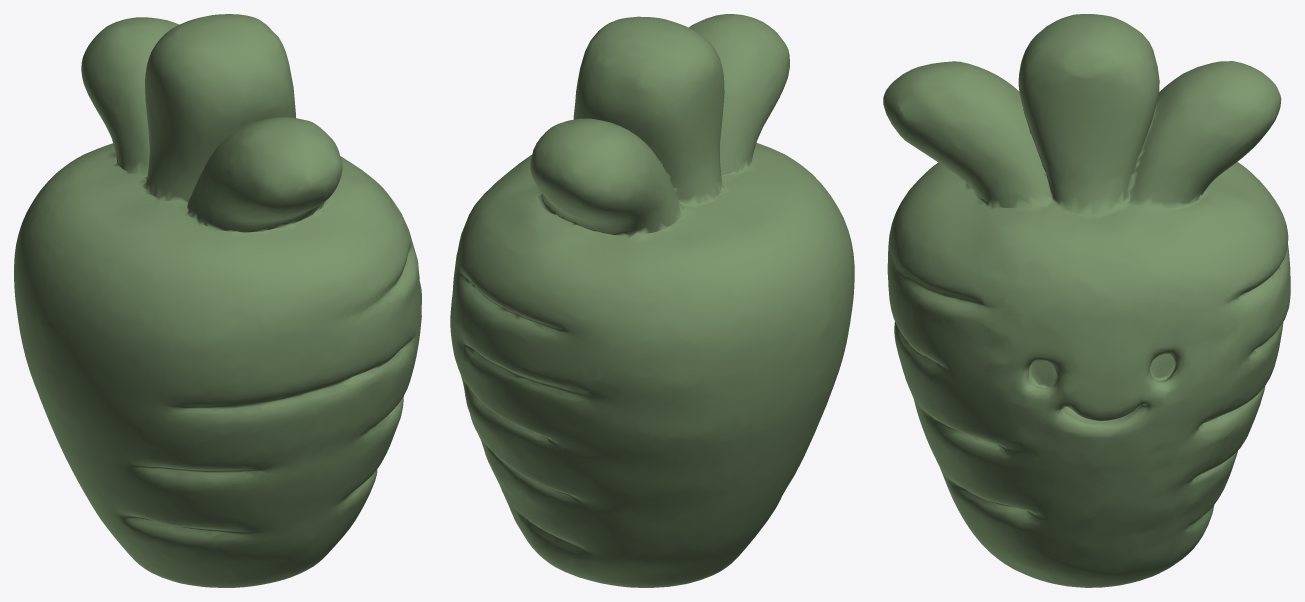
The model's file is carrot-pal.glb.
3 renders of one model, left to right at view 1: azimuth 30°, elevation 25°; view 2: azimuth 150°, elevation 25°; view 3: azimuth 270°, elevation 25°, orthographic.
Parts seen in each view (by area): view 1: tripo_printable_source; view 2: tripo_printable_source; view 3: tripo_printable_source.
Part boxes in pixels (bbox=[...]): tripo_printable_source: bbox=[14, 14, 421, 587]; tripo_printable_source: bbox=[450, 14, 854, 587]; tripo_printable_source: bbox=[883, 14, 1290, 587].
Bounding box in the file's own units: 68.21 × 100 × 70.
